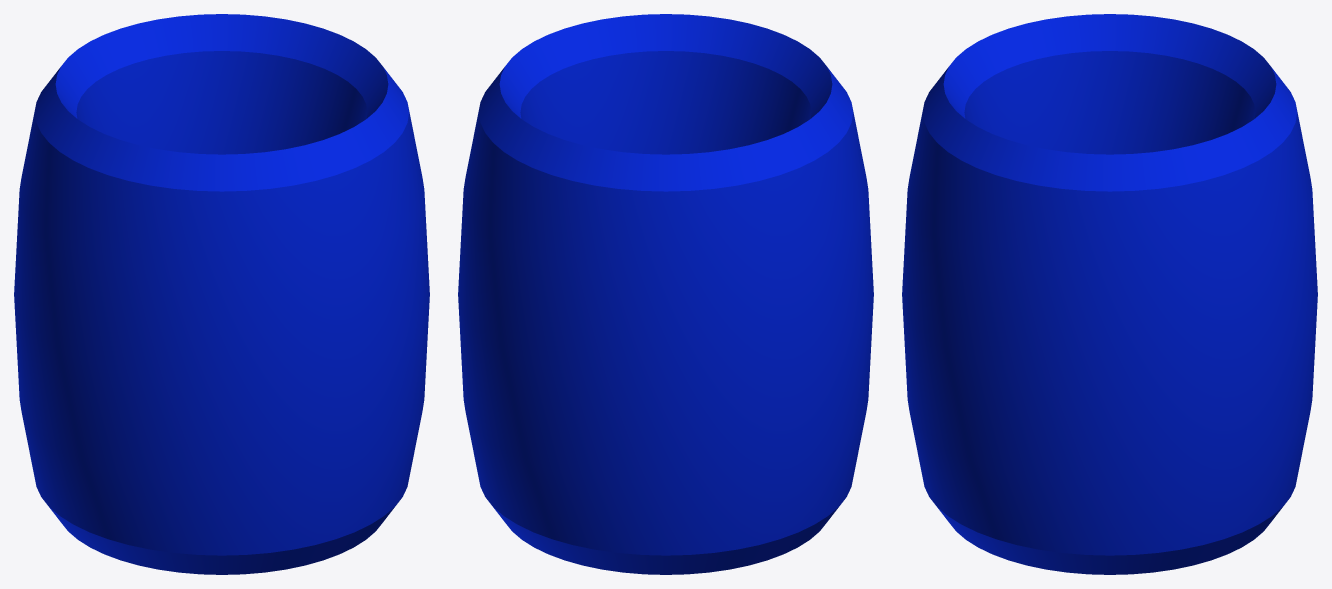
The model's file is gcup.fbx.
3 renders of one model, left to right at view 1: azimuth 30°, elevation 25°; view 2: azimuth 150°, elevation 25°; view 3: azimuth 270°, elevation 25°, orthographic.
Visible parts, largest first — view 1: Torus; view 2: Torus; view 3: Torus.
Boxes of the visible parts, x1=… form: Torus: x1=14, y1=14, x2=429, y2=574; Torus: x1=458, y1=14, x2=873, y2=574; Torus: x1=902, y1=14, x2=1317, y2=574.
Size of the model in its own units: 250 by 283 by 250.
